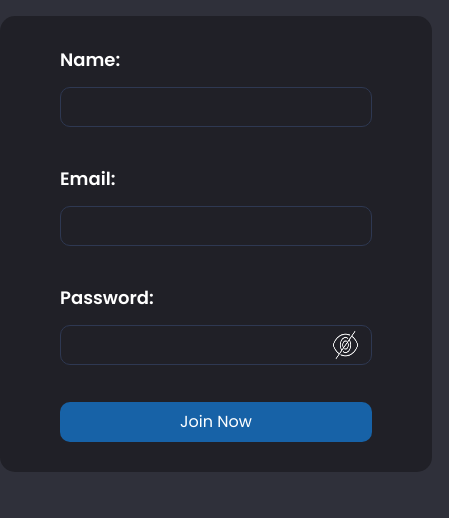
Test: Alerta de error › Spans de información incorrecta › Si el nombre tiene menos de 2 caracteres
Type " J " into the field labelled "Name:" at {"x": 216, "y": 107}, box [60,87,372,127]
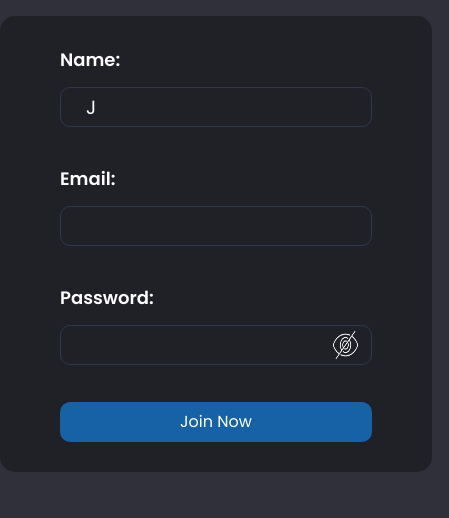
Leave the field labelled "Name:", box [60,87,372,127]
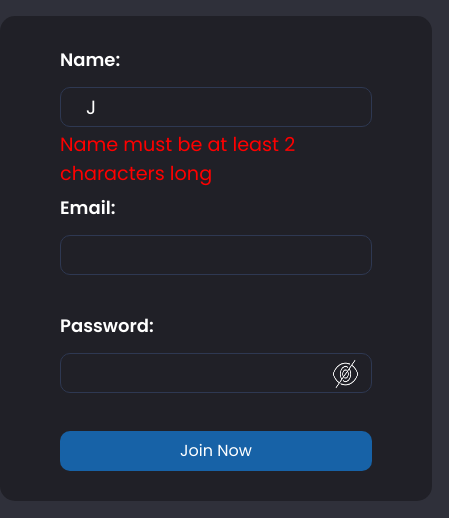
Check: the text "Name must be at least 2 characters long" is shown, box [60,131,295,187]
